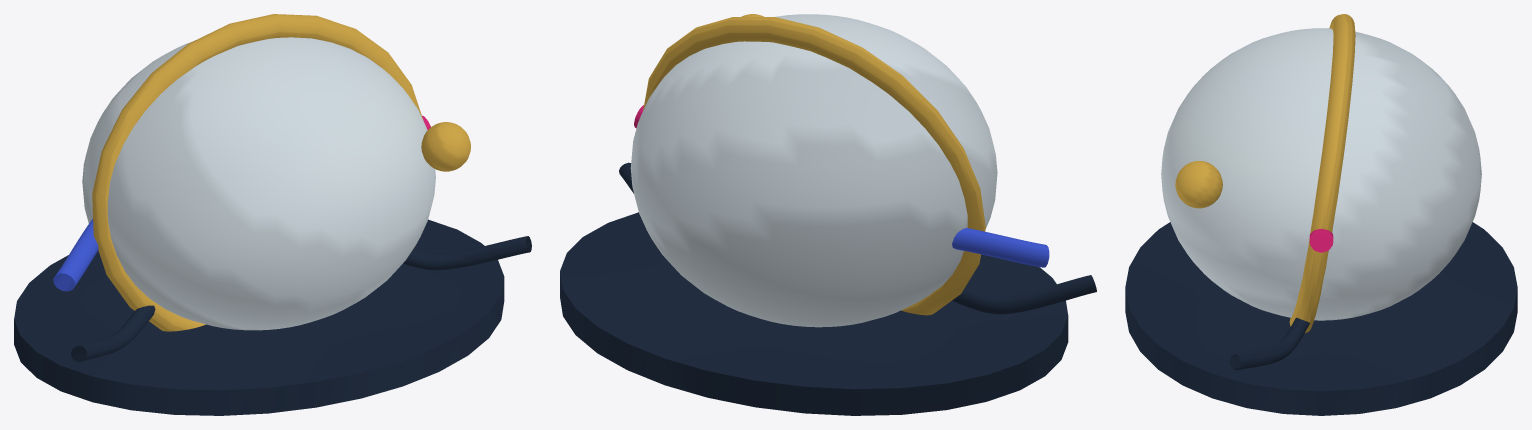
File: 0197_人体图鉴_受精卵.glb
3 views of the same model, side by side, from view 1: azimuth 30°, elevation 25°; view 2: azimuth 150°, elevation 25°; view 3: azimuth 270°, elevation 25° (orthographic). The views are drawn at different scales.
Visible parts, largest first — view 1: card_0197; view 2: card_0197; view 3: card_0197.
Part boxes in pixels (box(x1,y1,x2,y2)): card_0197: box(14, 14, 531, 415); card_0197: box(560, 14, 1096, 415); card_0197: box(1125, 14, 1517, 415).
Size of the model in its own units: 1.6 by 1 by 1.24.
